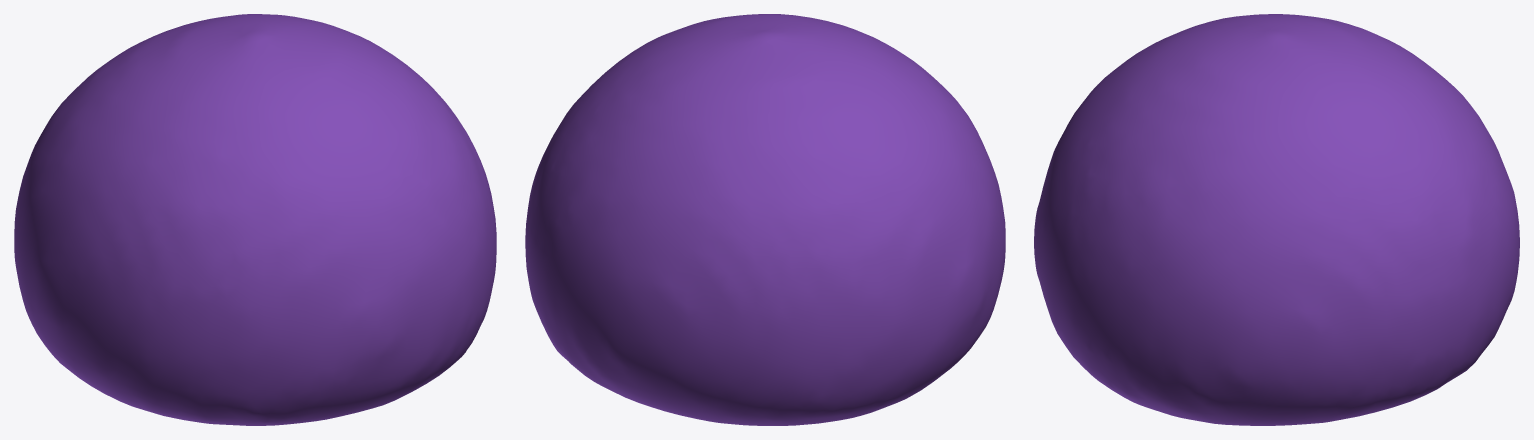
Rendered from slime_0004.dae.
The picture shows the model from 3 angles, left to right: view 1: azimuth 30°, elevation 25°; view 2: azimuth 150°, elevation 25°; view 3: azimuth 270°, elevation 25°; orthographic projection.
Visible parts, largest first — view 1: Slime; view 2: Slime; view 3: Slime.
Part boxes in pixels (left/top/right/bottom): Slime: left=14, top=14, right=496, bottom=425; Slime: left=525, top=14, right=1005, bottom=425; Slime: left=1034, top=14, right=1519, bottom=425.
Size of the model in its own units: 2.06 by 1.56 by 2.06.
